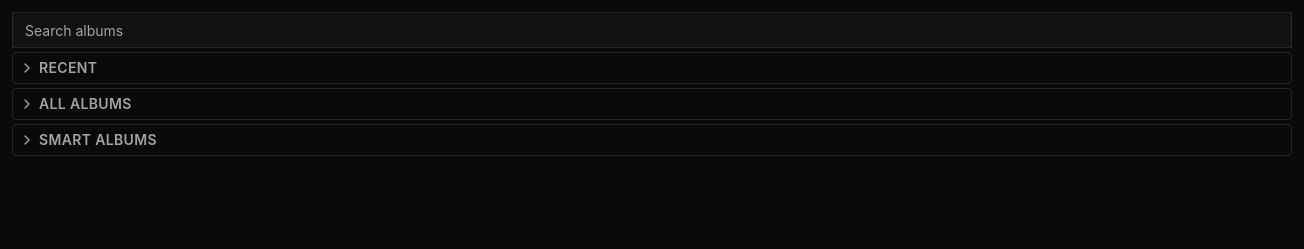
Test case: DesktopSidebarAlbumsSection › lists search matches while recent albums stay visible
The width and height of the screenshot is (1304, 249).
Expected: the field with placeholder "Search albums" is shown, [12,12,1292,48]
Step 1. Click the button "RECENT" → (68, 68), box [12,52,1292,84]
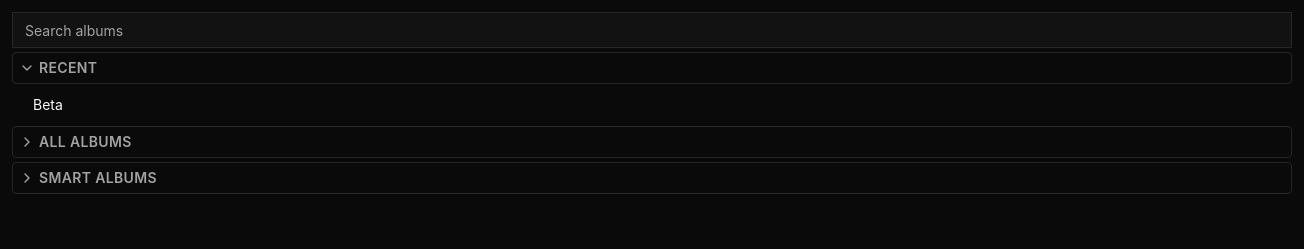
Now the button "Beta" is shown, box [12,88,1292,122]
Step 2. Type "alp" into the field with placeholder "Search albums" → (652, 30), box [12,12,1292,48]
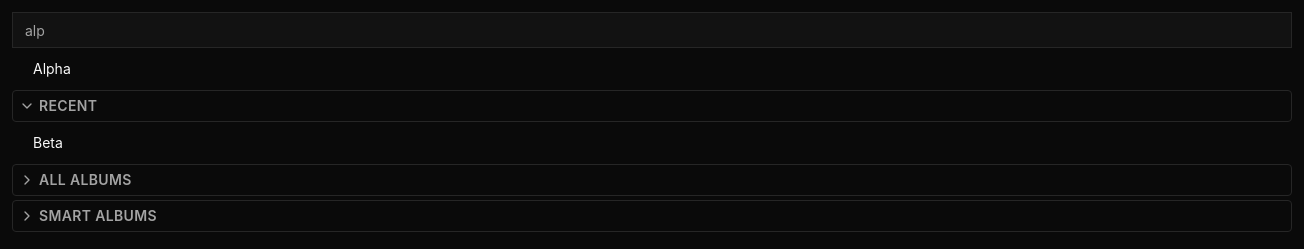
Now the button "Beta" is shown, box [12,126,1292,160]
Now the button "Alpha" is shown, box [12,52,1292,86]
